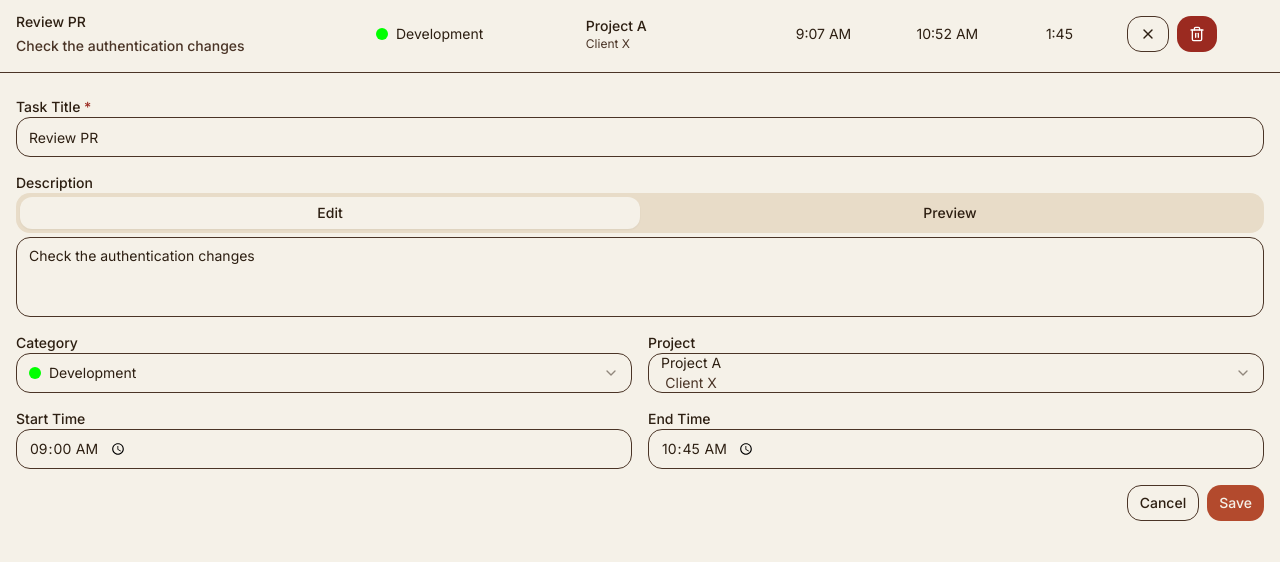
Test case: ArchivedTaskRow › blocks saving and announces an error when the end time is before the start time
Replace the text in the time field named "Task end time" with "08:00" at [956, 449], box [648, 429, 1264, 469]
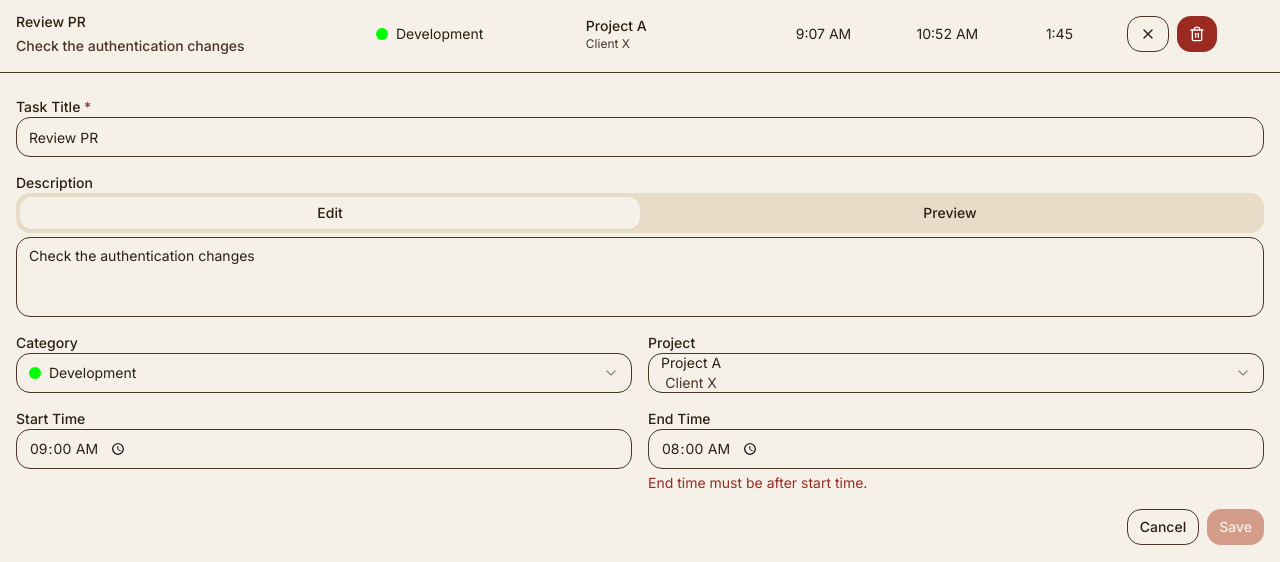
Expected: the message reads "End time must be after start time.", [648, 474, 867, 491]
Expected: the button "Save" is disabled, [1207, 509, 1264, 545]
Correcting the end time clears the error and re-enables Save.
Replace the text in the time field named "Task end time" with "11:00" at [956, 449], box [648, 429, 1264, 469]
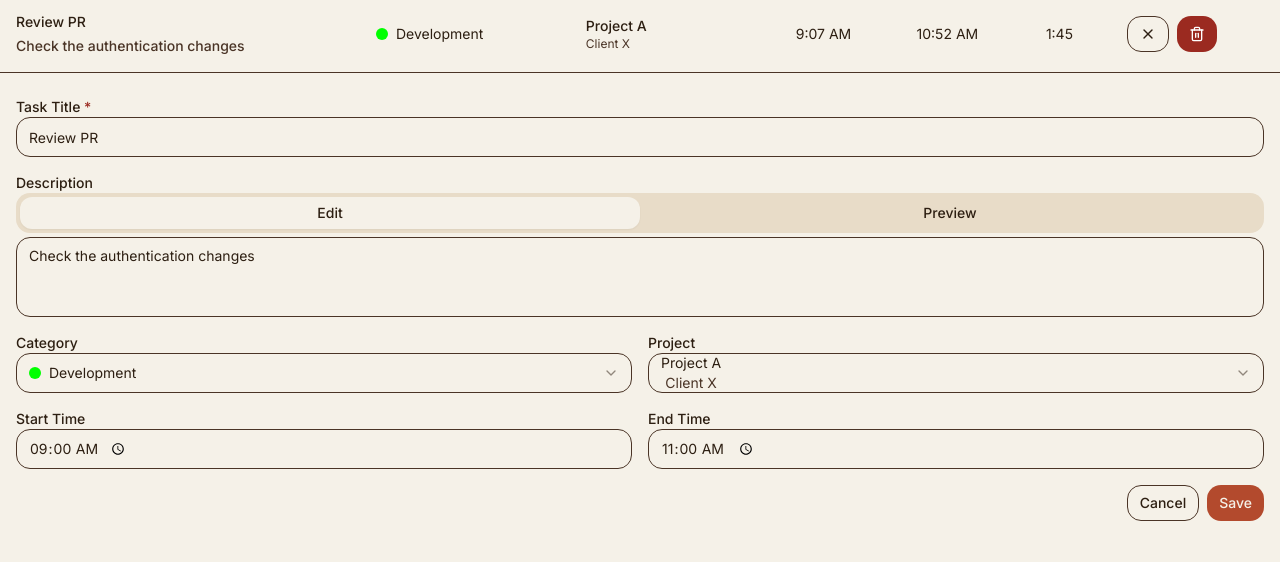
Expected: the message "End time must be after start time." is gone
Expected: the button "Save" is enabled, [1207, 485, 1264, 521]
